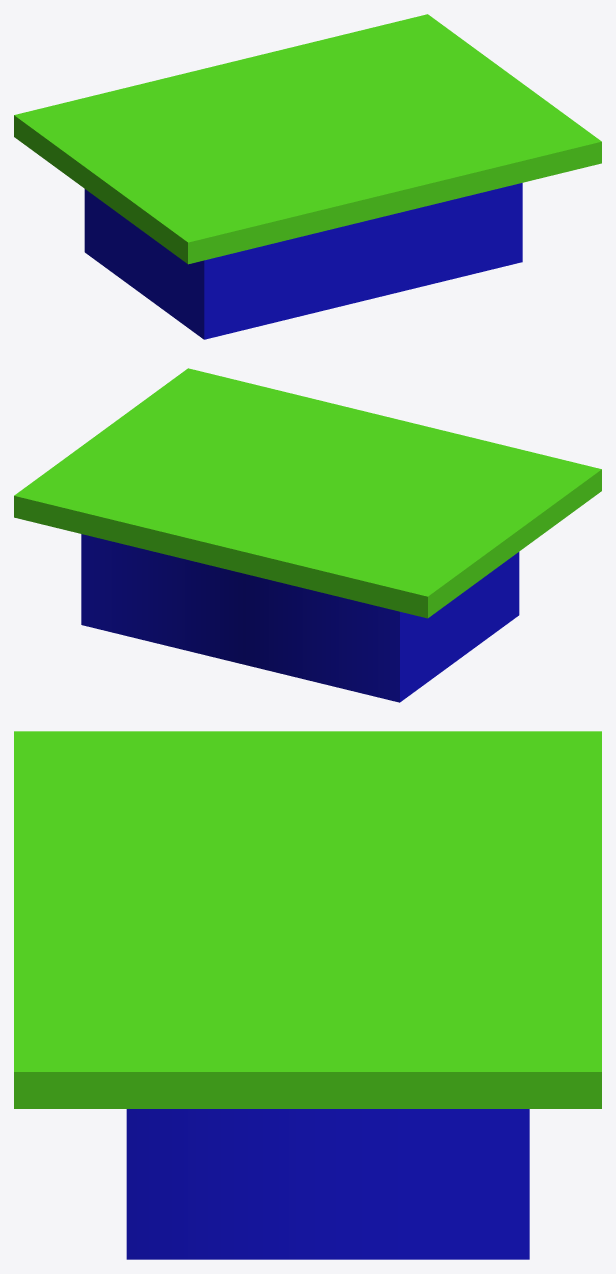
The model's file is Table.fbx.
The picture shows the model from 3 angles, top to bottom: view 1: azimuth 30°, elevation 25°; view 2: azimuth 150°, elevation 25°; view 3: azimuth 270°, elevation 25°; orthographic projection. The views are drawn at different scales.
Visible parts, largest first — view 1: Front Desk; view 2: Front Desk; view 3: Front Desk.
Part boxes in pixels (bbox=[...]): Front Desk: bbox=[14, 14, 601, 339]; Front Desk: bbox=[14, 368, 601, 702]; Front Desk: bbox=[14, 731, 601, 1259].
Bounding box in the file's own units: 77.11 × 23.8 × 56.2.
